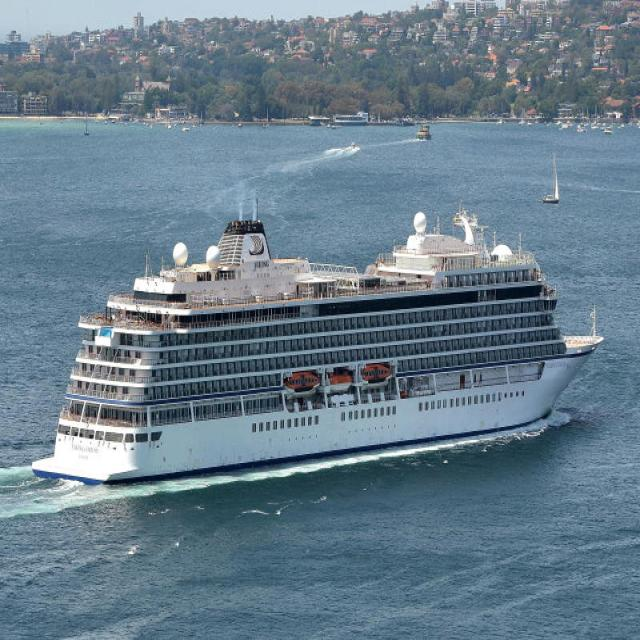cruises: (29, 196, 609, 493)
